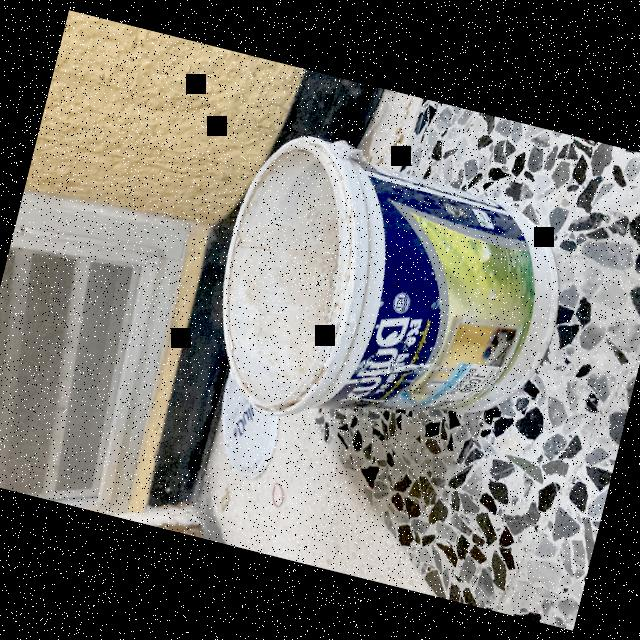paint_bucket: (191, 120, 587, 478)
